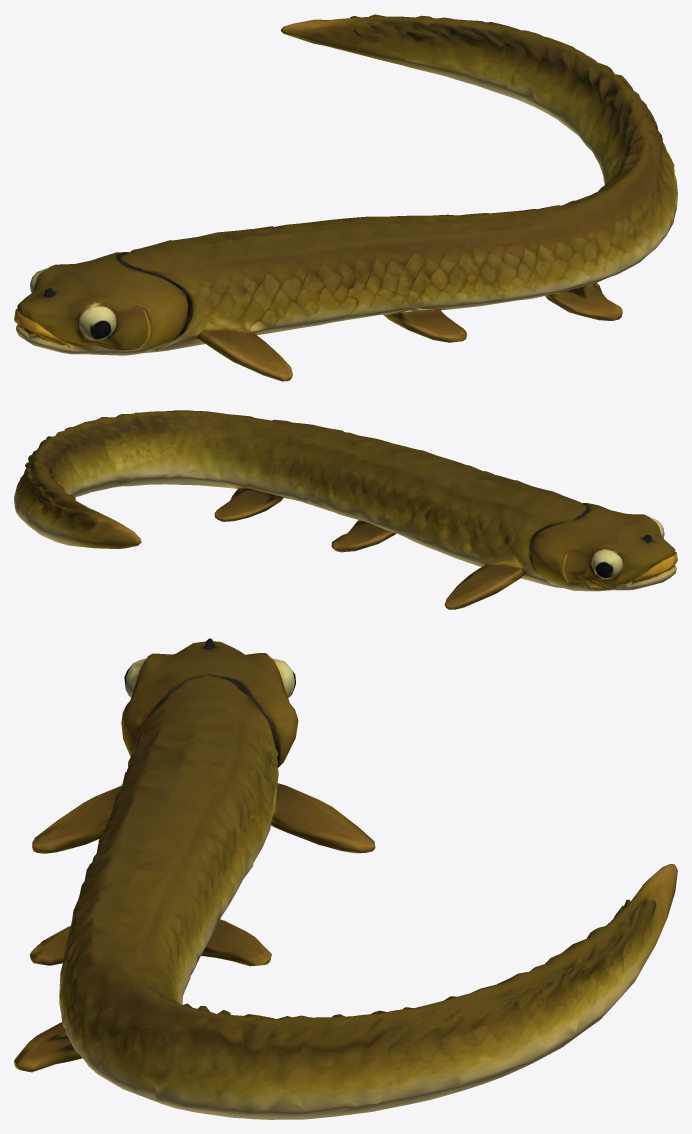
The model's file is fish-ugor.glb.
The picture shows the model from 3 angles, top to bottom: view 1: azimuth 30°, elevation 25°; view 2: azimuth 150°, elevation 25°; view 3: azimuth 270°, elevation 25°; orthographic projection. The views are drawn at different scales.
Parts seen in each view (by area): view 1: tripo_node_935712f9-7db5-4a7b-aa89-d89b2b529665; view 2: tripo_node_935712f9-7db5-4a7b-aa89-d89b2b529665; view 3: tripo_node_935712f9-7db5-4a7b-aa89-d89b2b529665.
Boxes of the visible parts, x1,y1,x2,y2 form: tripo_node_935712f9-7db5-4a7b-aa89-d89b2b529665: (14,14,677,381); tripo_node_935712f9-7db5-4a7b-aa89-d89b2b529665: (14,410,677,609); tripo_node_935712f9-7db5-4a7b-aa89-d89b2b529665: (14,638,677,1119).
Bounding box in the file's own units: 0.9995 × 0.18 × 0.6577.
Materials: 1 (1 with a texture image).
